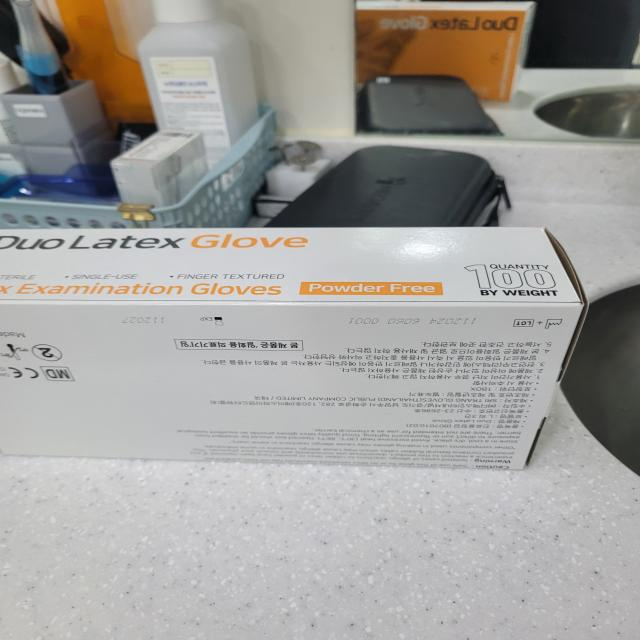glove: (0, 209, 640, 490)
